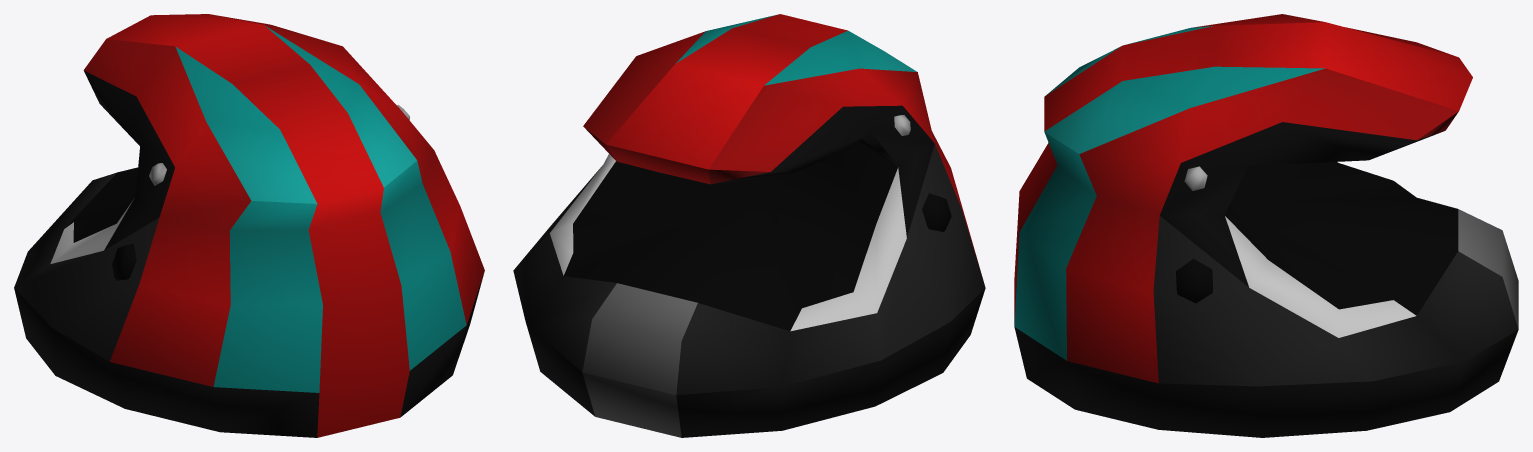
File: hat_extremehelm.glb
3 views of the same model, side by side, from view 1: azimuth 30°, elevation 25°; view 2: azimuth 150°, elevation 25°; view 3: azimuth 270°, elevation 25° (orthographic). The views are drawn at different scales.
Parts seen in each view (by area): view 1: hat_extremehelm; view 2: hat_extremehelm; view 3: hat_extremehelm.
Boxes of the visible parts, x1,y1,x2,y2 form: hat_extremehelm: (14,14,484,437); hat_extremehelm: (513,14,985,437); hat_extremehelm: (1014,14,1518,437).
Size of the model in its own units: 0.5144 by 0.3616 by 0.5267.
